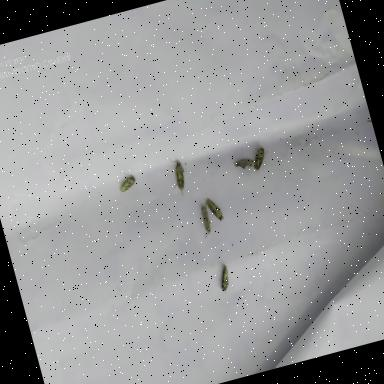pbw: (166, 154, 193, 198), (197, 204, 215, 239), (115, 170, 138, 194), (206, 195, 225, 224), (216, 264, 234, 294), (249, 146, 269, 172), (234, 156, 256, 172)
